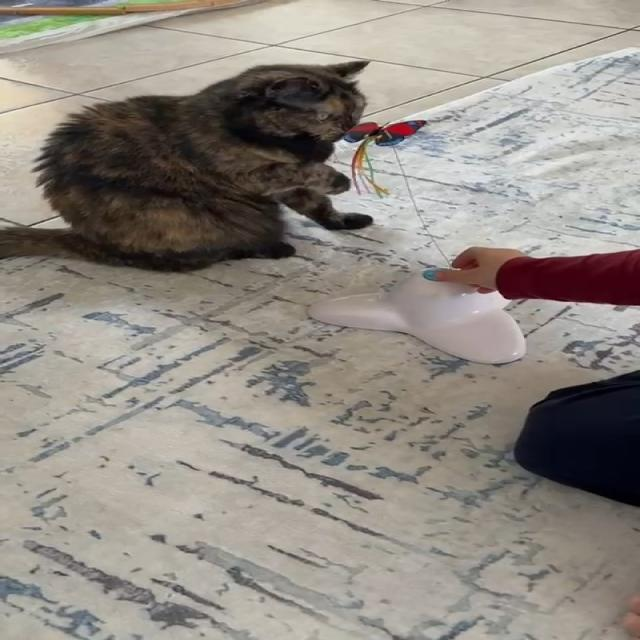authorized: (0, 60, 375, 273)
